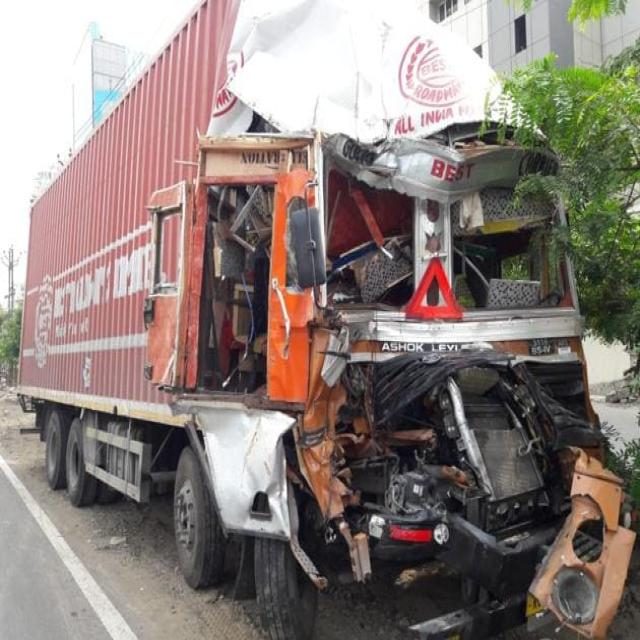accident: (19, 0, 634, 638)
